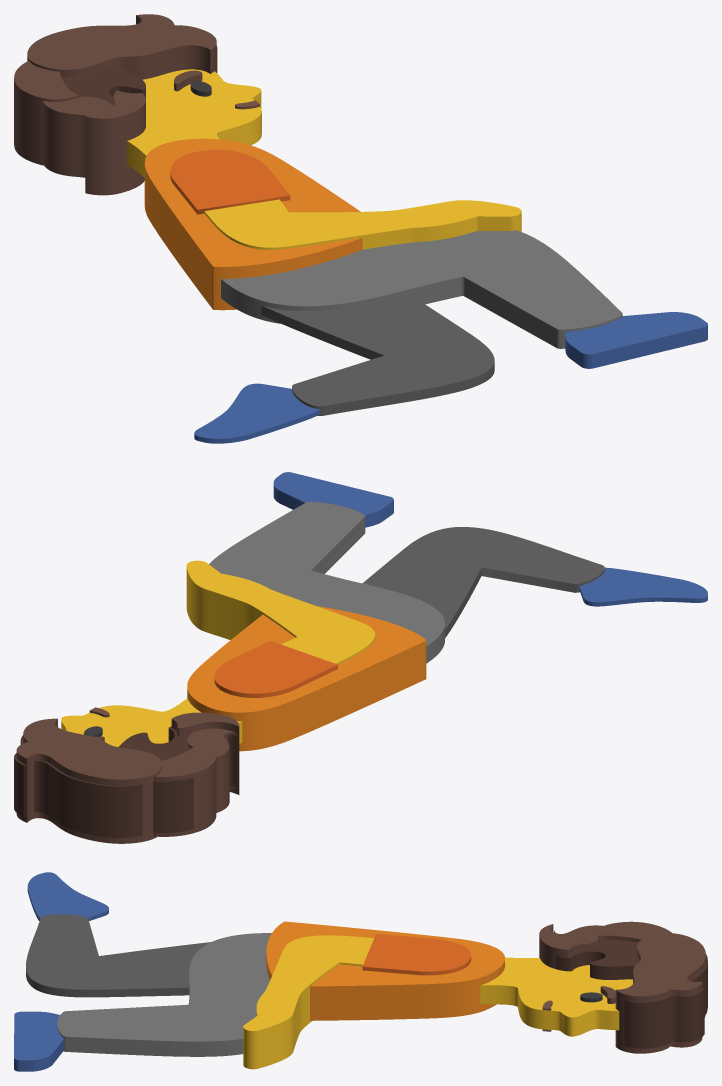
The model's file is emoji_u1f9ce_200d_27a1.glb.
3 renders of one model, top to bottom at view 1: azimuth 30°, elevation 25°; view 2: azimuth 150°, elevation 25°; view 3: azimuth 270°, elevation 25°, orthographic. The views are drawn at different scales.
Parts seen in each view (by area): view 1: emoji_u1f9ce_200d_27a1; view 2: emoji_u1f9ce_200d_27a1; view 3: emoji_u1f9ce_200d_27a1.
Part boxes in pixels (x1=…): emoji_u1f9ce_200d_27a1: x1=14, y1=14, x2=707, y2=443; emoji_u1f9ce_200d_27a1: x1=14, y1=472, x2=707, y2=843; emoji_u1f9ce_200d_27a1: x1=14, y1=872, x2=707, y2=1071.
Bounding box in the file's own units: 0.0215 × 0.0032 × 0.0329.
